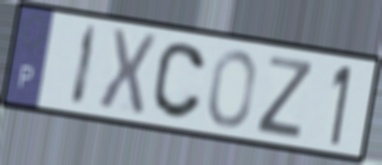1: (329, 64, 353, 148)
C: (149, 40, 208, 122)
I: (68, 22, 101, 111)
O: (205, 47, 258, 130)
X: (95, 25, 159, 117)
Z: (253, 53, 316, 142)
